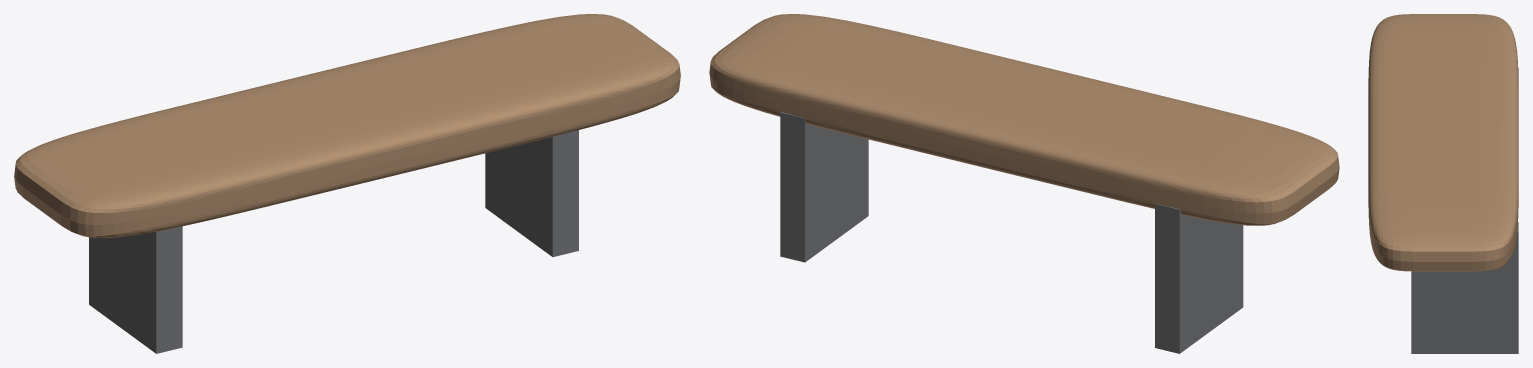
File: wall_shelf.glb
3 renders of one model, left to right at view 1: azimuth 30°, elevation 25°; view 2: azimuth 150°, elevation 25°; view 3: azimuth 270°, elevation 25°, orthographic. The views are drawn at different scales.
Visible parts, largest first — view 1: Shelf, Bracket_-1, Bracket_1; view 2: Shelf, Bracket_-1, Bracket_1; view 3: Shelf, Bracket_1.
Boxes of the visible parts, bbox=[...] form: Shelf: bbox=[14, 14, 680, 237]; Bracket_-1: bbox=[89, 226, 182, 353]; Bracket_1: bbox=[485, 130, 578, 256]; Shelf: bbox=[709, 14, 1339, 225]; Bracket_-1: bbox=[1155, 203, 1243, 353]; Bracket_1: bbox=[780, 112, 868, 262]; Shelf: bbox=[1368, 14, 1518, 271]; Bracket_1: bbox=[1411, 222, 1518, 353].
Size of the model in its own units: 1.05 by 0.3 by 0.28.
